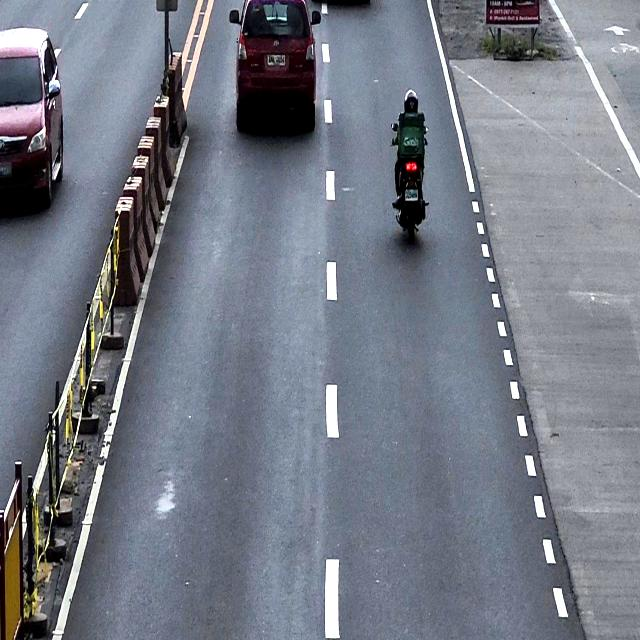Car: (229, 0, 321, 133), (0, 26, 64, 206)
License-Plate: (266, 53, 286, 67), (404, 188, 418, 202), (0, 161, 13, 176)
Motorcycle: (390, 117, 429, 243)
